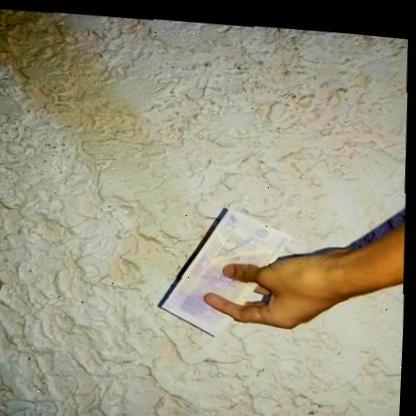two_hundred-back-vef: (158, 193, 300, 341)
